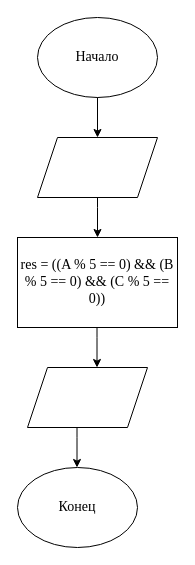
Image size: 195x565. Some labels were removed from this diagram. The shapes that lost their labels are listed below. From the top down, each one's box as (x1, y1, x2, y2) in pixels, then its label:
(36, 136, 158, 198): A,B,C
(26, 366, 148, 428): res
